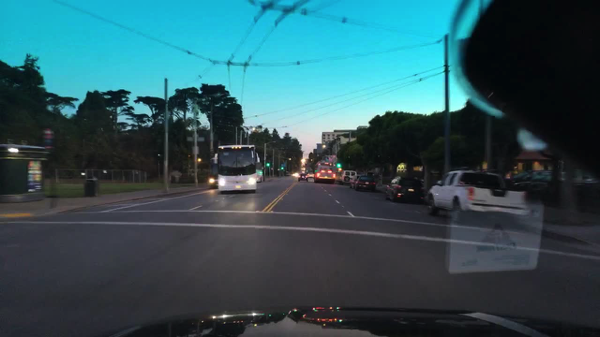bus: (211, 146, 260, 194)
car: (384, 177, 425, 206), (521, 169, 560, 183), (559, 169, 593, 184), (355, 176, 376, 193), (207, 162, 217, 191), (341, 169, 357, 186), (506, 171, 529, 182), (347, 175, 360, 189), (257, 169, 265, 183), (299, 172, 308, 183), (334, 170, 341, 183), (306, 173, 317, 179), (292, 172, 299, 178), (284, 171, 290, 176)
traffic light: (336, 159, 342, 168), (265, 163, 271, 167), (280, 167, 285, 171)
traffic sign: (186, 136, 205, 141), (191, 147, 201, 155)
truck: (425, 169, 530, 229), (314, 166, 337, 185)
